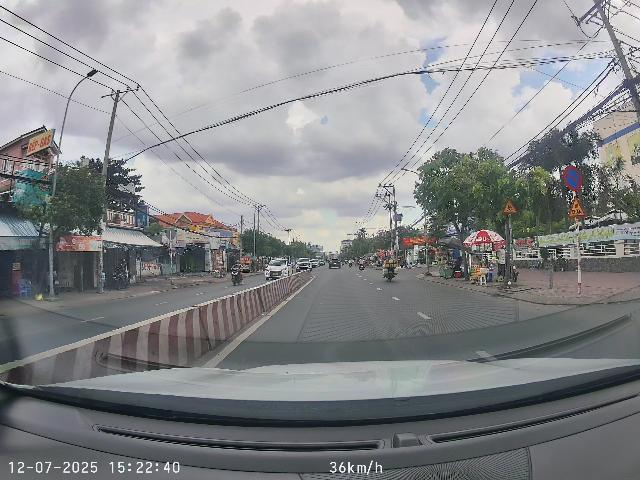131a-cam-do-xe: (563, 165, 583, 190)
225-chu-y-tre-em: (503, 199, 518, 214)
245-di-cham: (569, 196, 586, 218)
